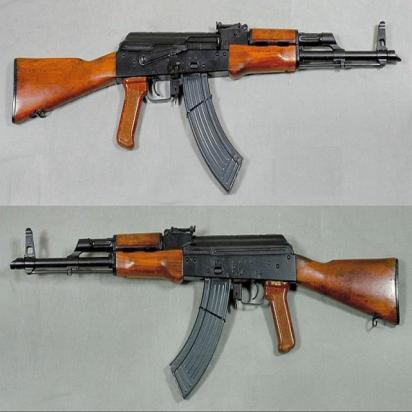Gun: (11, 21, 402, 193), (8, 224, 400, 355)
